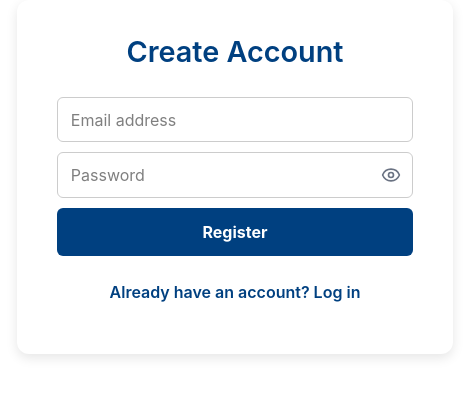
Registration Component › sends OTP and moves to step 2
Type "test@gmail.com" into the field with placeholder "Email address" at (235, 120), box [57,97,413,142]
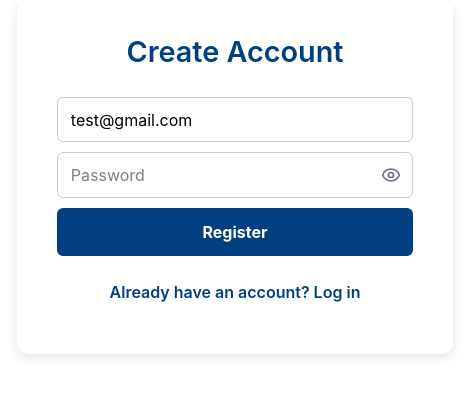
Type "Password@1" into the password field with placeholder "Password" at (235, 175), box [57,152,413,198]
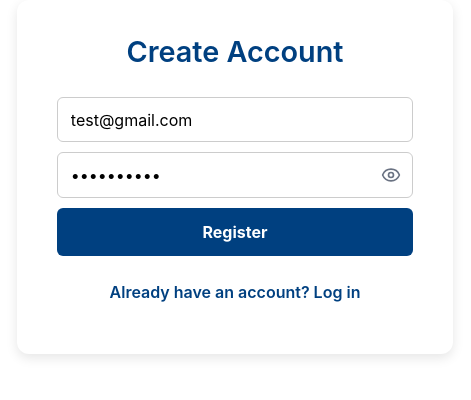
Click the button "Register" at (235, 232), box [57,208,413,256]
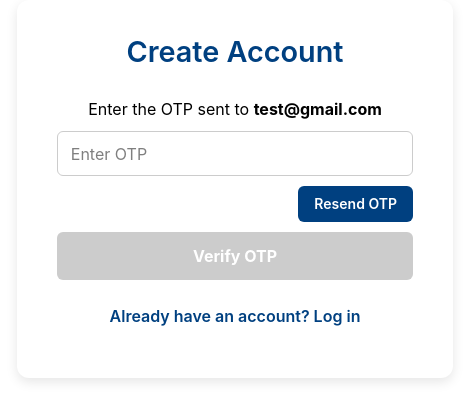
Result: the field with placeholder "Enter OTP" is shown at [57,131,413,176]
